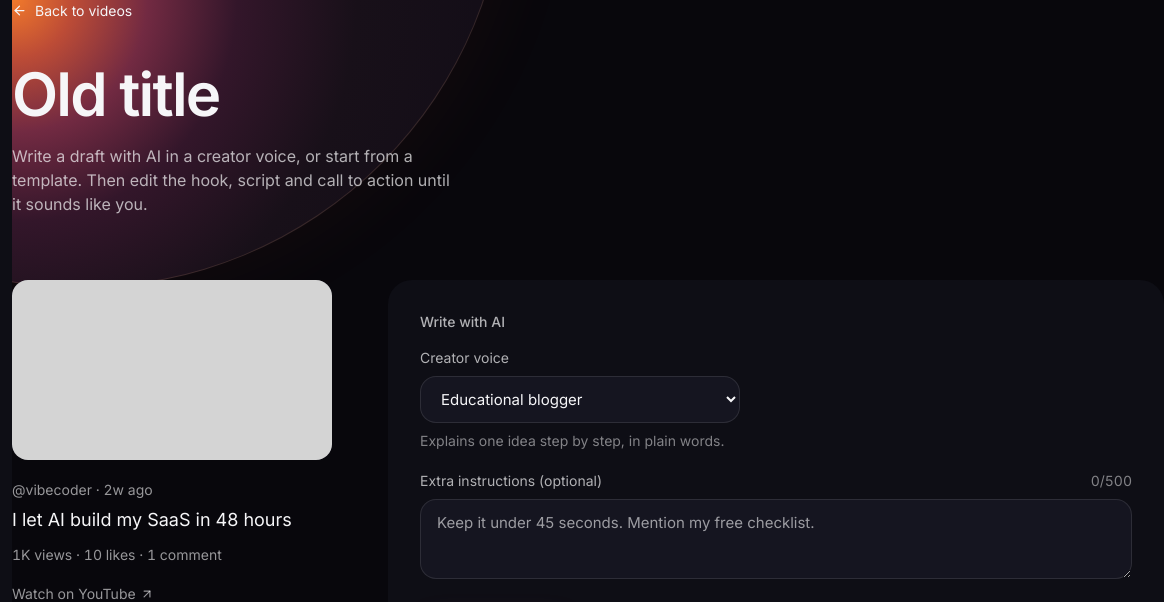
Test case: Write with AI: loading and success › sends the custom voice and names it custom
Expected: the heading "Write with AI" is shown, [420, 313, 505, 330]
Select "Custom voice…" in the dropdown labelled "Creator voice" at (580, 400), box [420, 376, 740, 423]
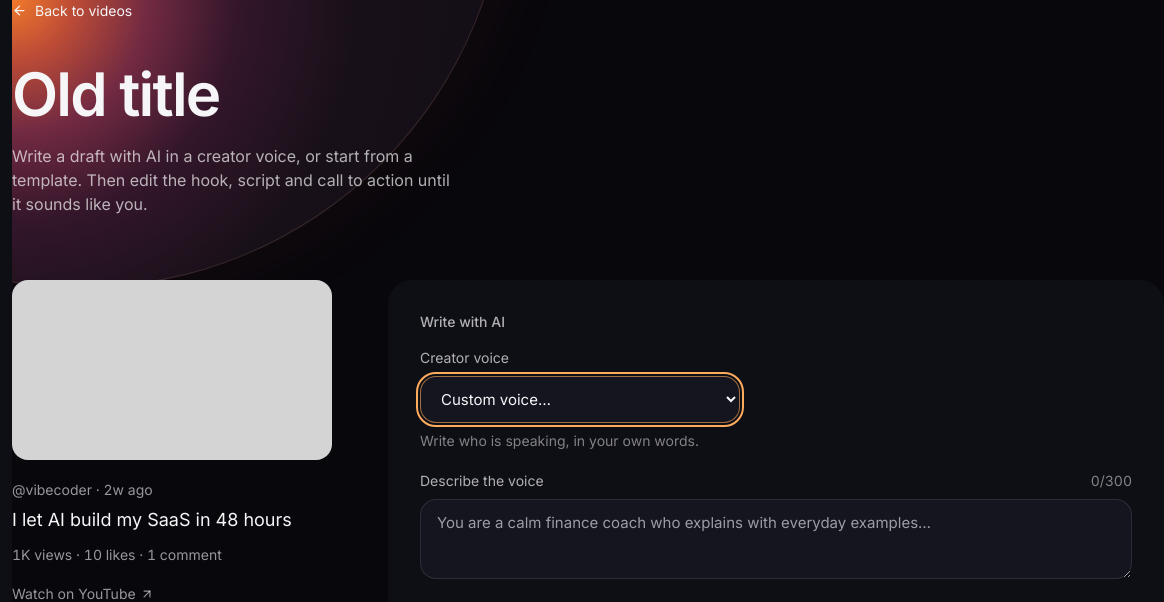
Type "You are a calm coach" into the text box labelled "Describe the voice".
click(776, 539); type("You are a calm coach")  # box [420, 499, 1132, 579]
(page scrolled)
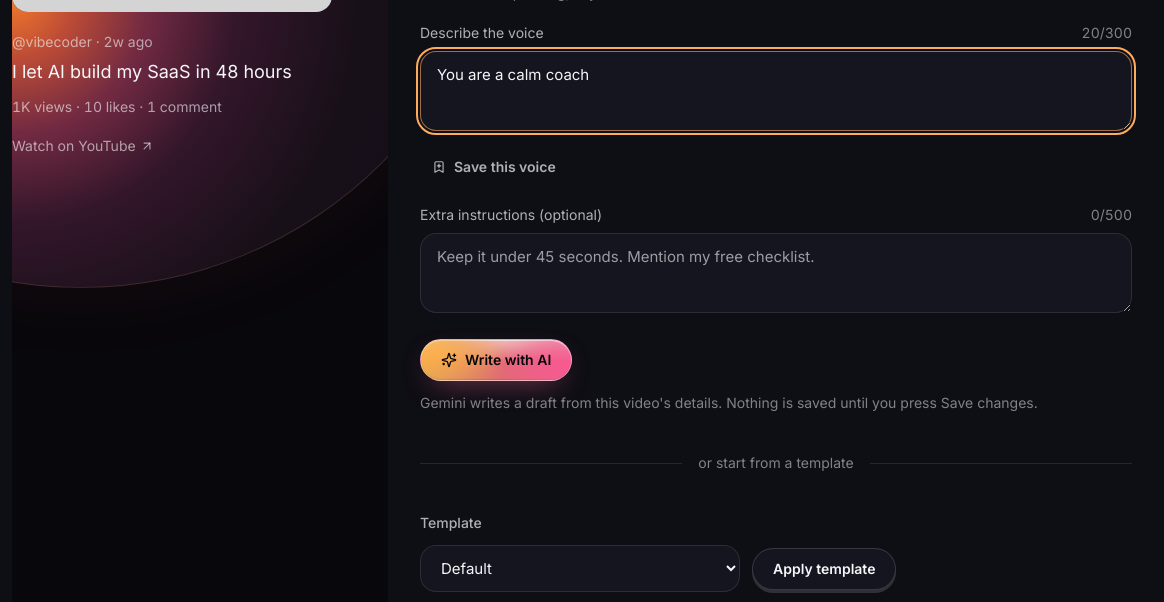
Click the button "Write with AI".
click(496, 360)  # box [420, 339, 572, 381]
(page scrolled)
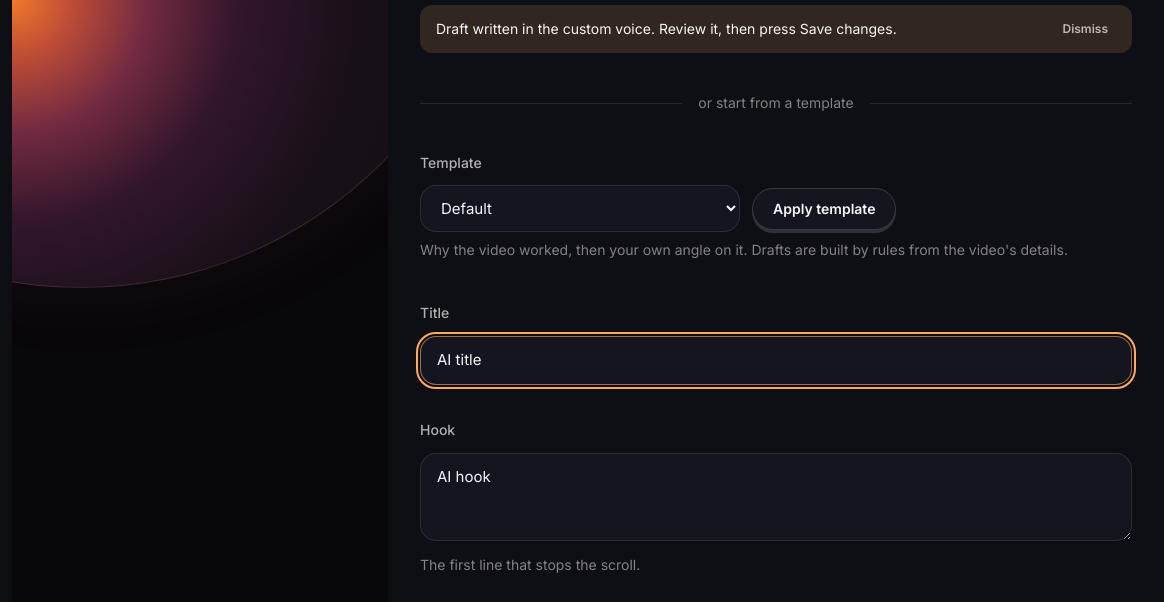
Now the text "Draft written in the custom voice. Review it, then press Save changes." is shown, box [436, 19, 897, 39]
